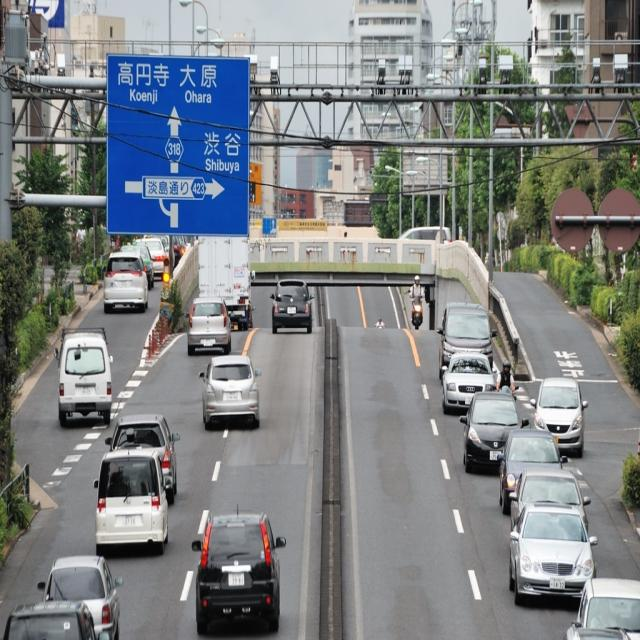Caminhao: (197, 234, 253, 328)
Carro Branco: (93, 454, 173, 552), (57, 328, 113, 419), (572, 573, 640, 639), (101, 249, 148, 317)
Carro Prata: (506, 506, 596, 595), (103, 412, 180, 500), (46, 552, 124, 638), (512, 470, 591, 532), (201, 355, 264, 429), (532, 375, 589, 451), (440, 348, 496, 415), (186, 298, 234, 354)
Carro Preto: (194, 508, 281, 636), (462, 390, 526, 476), (0, 599, 103, 640), (442, 300, 494, 376), (270, 280, 316, 336)
